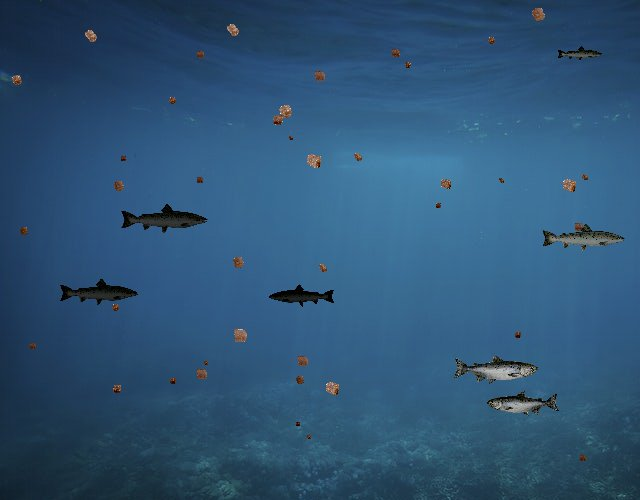Fish: (120, 203, 210, 235), (540, 222, 626, 253), (452, 354, 538, 385), (59, 278, 140, 307), (488, 390, 561, 417), (269, 284, 337, 308), (557, 45, 604, 62)
Pellet: (5, 69, 28, 91), (348, 147, 367, 166), (386, 44, 404, 62), (510, 328, 524, 342), (432, 200, 445, 213), (117, 153, 129, 165), (200, 358, 210, 368)
